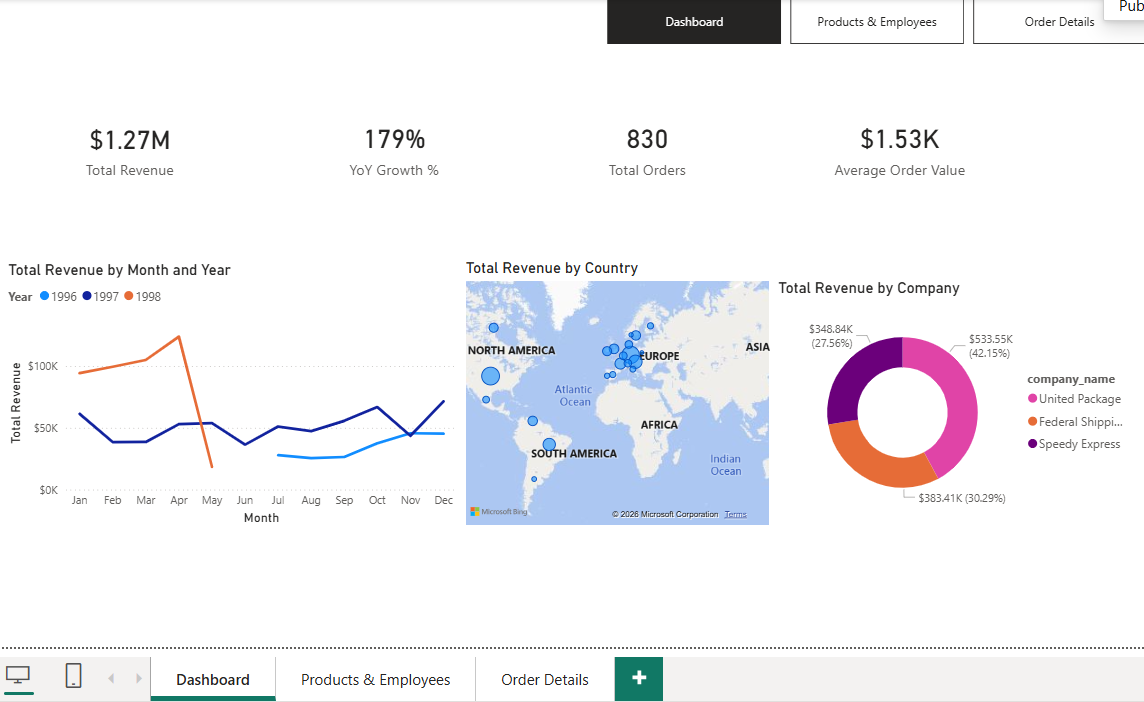

What the dashboard file says about the page in this screenshot:
{"tool":"powerbi","page":{"name":"Dashboard","canvas":[1280,720],"ordinal":0},"visuals":[{"type":"card","fields":{"Values":["_Measures.Total Revenue"]},"box":[9.7,50,280.6,230.6],"z":0},{"type":"card","fields":{"Values":["_Measures.YoY Growth %"]},"box":[302.8,50,281.9,229.2],"z":1000},{"type":"card","fields":{"Values":["_Measures.Total Orders"]},"box":[584.7,50,280.6,229.2],"z":2000},{"type":"card","fields":{"Values":["_Measures.AOV"]},"box":[865.3,50,280.6,229.2],"z":3000},{"type":"lineChart","fields":{"Y":["_Measures.Total Revenue"],"Series":["Date.Year"],"Category":["Date.Month"]},"box":[10,290,508.6,298.6],"z":4000},{"type":"donutChart","title":"Total Revenue by Company","fields":{"Category":["public shippers.company_name"],"Y":["_Measures.Total Revenue"]},"box":[865.3,311.1,405.6,277.8],"z":5000},{"type":"map","title":"Total Revenue by Country","fields":{"Category":["public v_customer_geo.country"],"Size":["_Measures.Total Revenue"]},"box":[518.1,288.9,347.2,300],"z":6000},{"type":"pageNavigator","box":[680.2,0,600,50],"z":6001}]}

Visuals, with their boxes on the page's 1280x720 design canvas (x1, y1, x2, y2). These are canvas units, not pixel positions in the 1144x702 screenshot, which may show the page scaled, cropped or inside an application window:
card - _Measures.Total Revenue: [10, 50, 290, 281]
card - _Measures.YoY Growth %: [303, 50, 585, 279]
card - _Measures.Total Orders: [585, 50, 865, 279]
card - _Measures.AOV: [865, 50, 1146, 279]
lineChart - _Measures.Total Revenue x Date.Year: [10, 290, 519, 589]
"Total Revenue by Company" donutChart: [865, 311, 1271, 589]
"Total Revenue by Country" map: [518, 289, 865, 589]
pageNavigator: [680, 0, 1280, 50]
